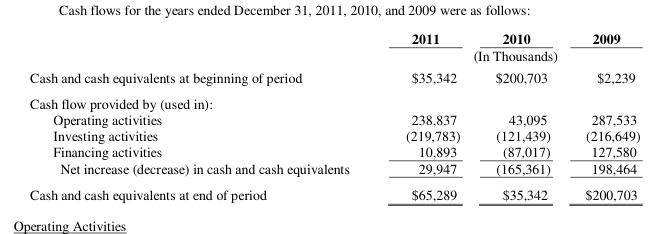table: (28, 28, 639, 203)
table column: (28, 28, 376, 203), (376, 28, 477, 203), (477, 28, 567, 203), (567, 28, 639, 203)
table column header: (28, 28, 639, 65)
table projected row header: (28, 89, 639, 110)
table row: (28, 65, 639, 89), (28, 180, 639, 203), (28, 158, 639, 180), (28, 89, 639, 110), (28, 46, 639, 65), (28, 28, 639, 46), (28, 110, 639, 126), (28, 126, 639, 142), (28, 142, 639, 158)
table spanning cell: (376, 46, 639, 65)
